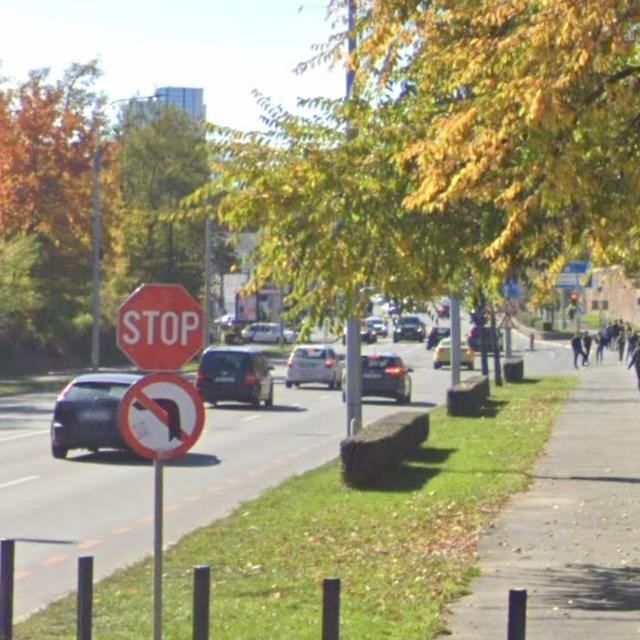prio_stop: (116, 283, 205, 377)
